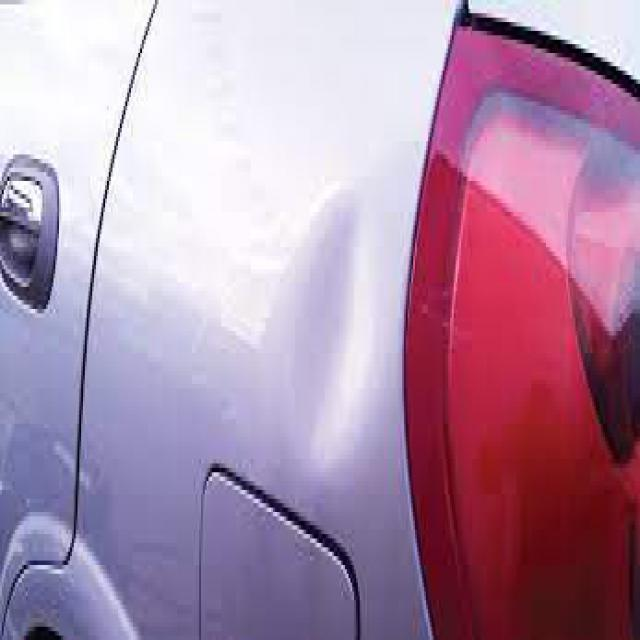quaterpanel-dent: (111, 0, 400, 636)
